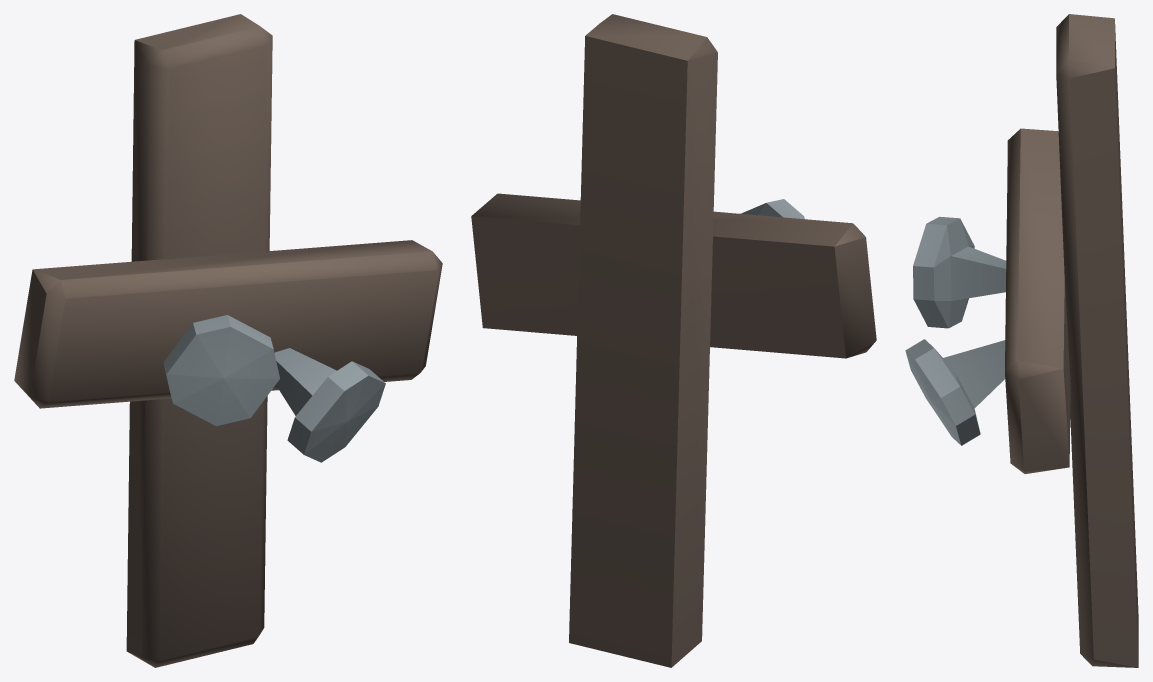
Rendered from Gravemarker B.glb.
3 views of the same model, side by side, from view 1: azimuth 30°, elevation 25°; view 2: azimuth 150°, elevation 25°; view 3: azimuth 270°, elevation 25° (orthographic). The views are drawn at different scales.
Parts seen in each view (by area): view 1: gravemarker_B; view 2: gravemarker_B; view 3: gravemarker_B.
Boxes of the visible parts, box(x1,y1,x2,y2) form: gravemarker_B: box(14, 14, 442, 667); gravemarker_B: box(471, 14, 876, 667); gravemarker_B: box(905, 14, 1138, 667).
Bounding box in the file's own units: 0.8029 × 1.18 × 0.4132.
1 material, 1 textured.
